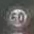limite 60: (4, 4, 30, 30)
